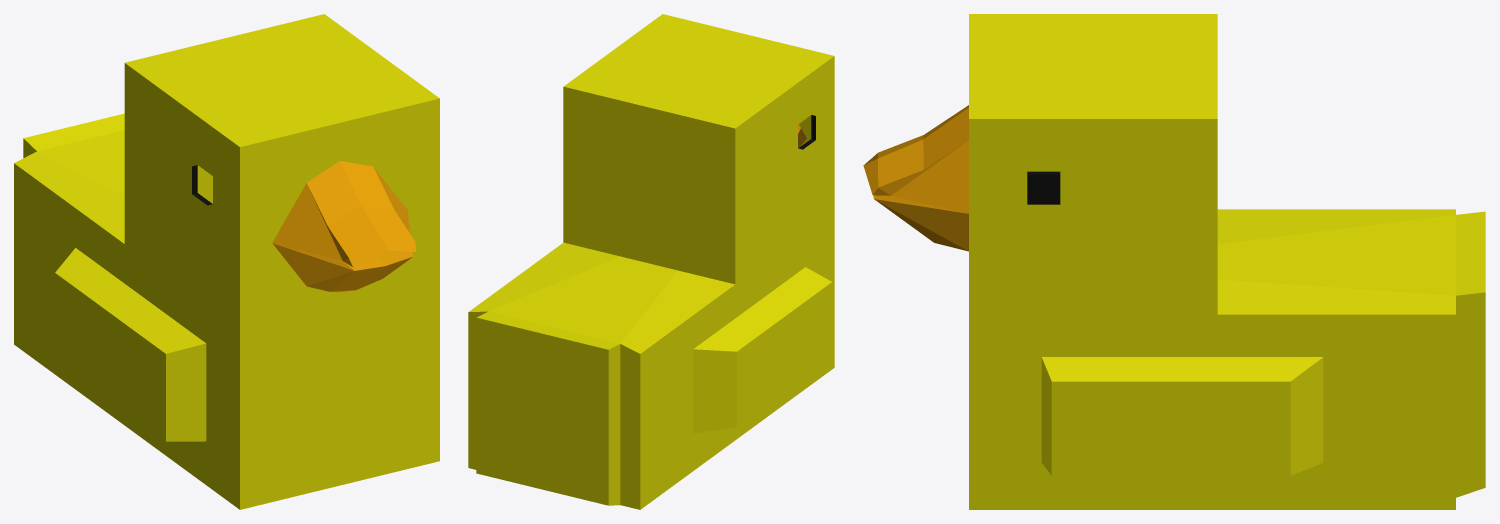
File: duck.glb
The picture shows the model from 3 angles, left to right: view 1: azimuth 30°, elevation 25°; view 2: azimuth 150°, elevation 25°; view 3: azimuth 270°, elevation 25°; orthographic projection. The views are drawn at different scales.
Parts seen in each view (by area): view 1: Duck; view 2: Duck; view 3: Duck.
Boxes of the visible parts, x1,y1,x2,y2 form: Duck: (14, 14, 439, 509); Duck: (468, 14, 834, 509); Duck: (863, 14, 1485, 509).
Bounding box in the file's own units: 2.71 × 3.47 × 5.
